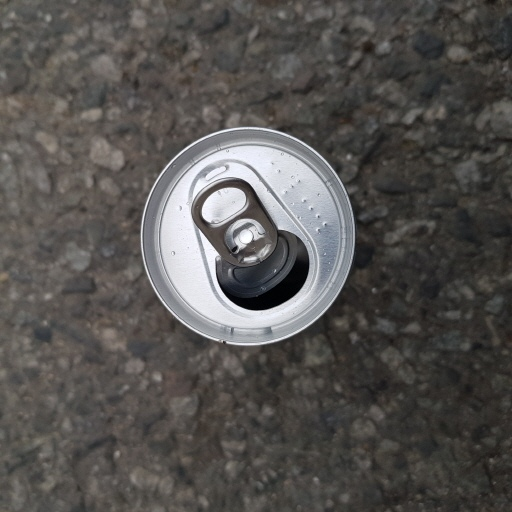Metal_0: (131, 123, 365, 351)
